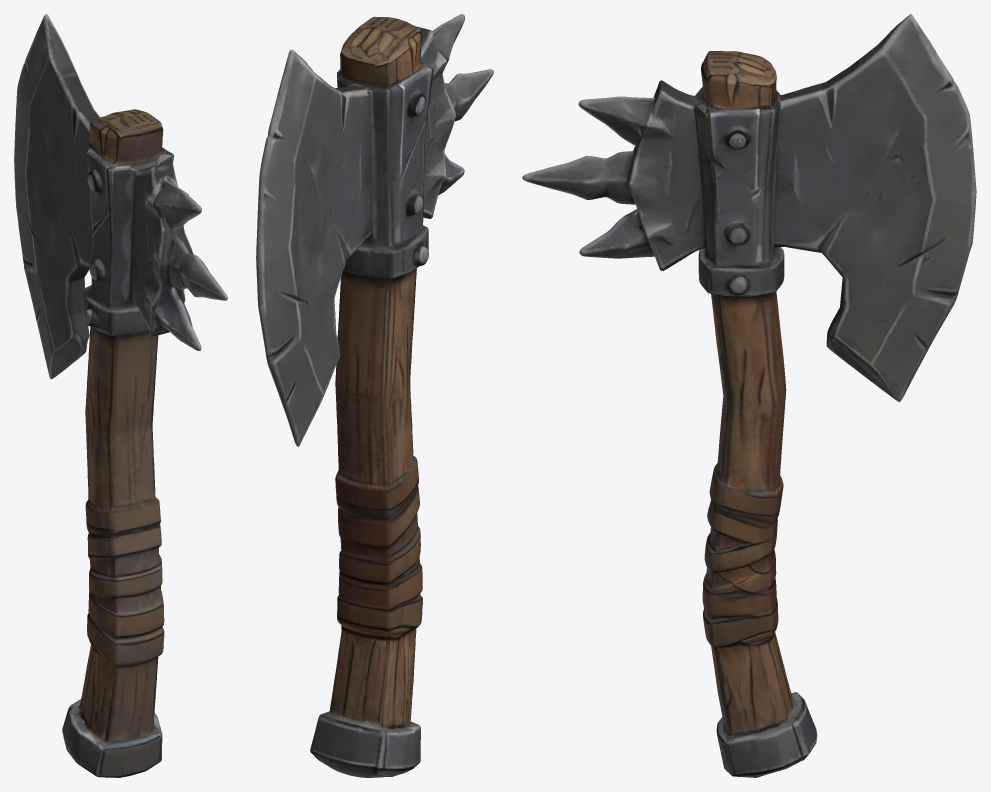
Rendered from w_orc_axe.glb.
3 views of the same model, side by side, from view 1: azimuth 30°, elevation 25°; view 2: azimuth 150°, elevation 25°; view 3: azimuth 270°, elevation 25° (orthographic). The views are drawn at different scales.
Parts seen in each view (by area): view 1: tripo_node_6ee981f1-95a8-4b22-9718-be59c62184f5; view 2: tripo_node_6ee981f1-95a8-4b22-9718-be59c62184f5; view 3: tripo_node_6ee981f1-95a8-4b22-9718-be59c62184f5.
Boxes of the visible parts, bbox=[...] form: tripo_node_6ee981f1-95a8-4b22-9718-be59c62184f5: bbox=[14, 14, 227, 777]; tripo_node_6ee981f1-95a8-4b22-9718-be59c62184f5: bbox=[256, 14, 493, 777]; tripo_node_6ee981f1-95a8-4b22-9718-be59c62184f5: bbox=[522, 14, 976, 777].
Size of the model in its own units: 0.1191 by 1 by 0.5442.
1 material, 1 textured.
